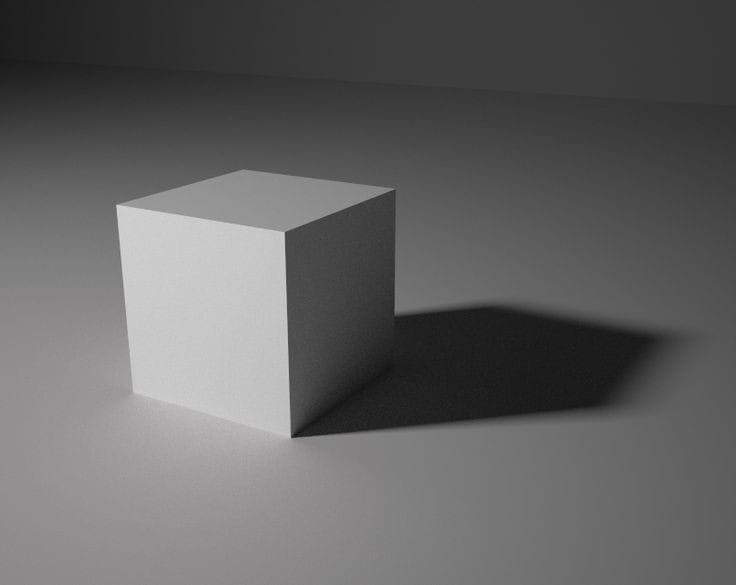cubos: (107, 157, 416, 446)
